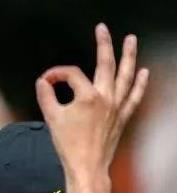left: (35, 23, 152, 174)
